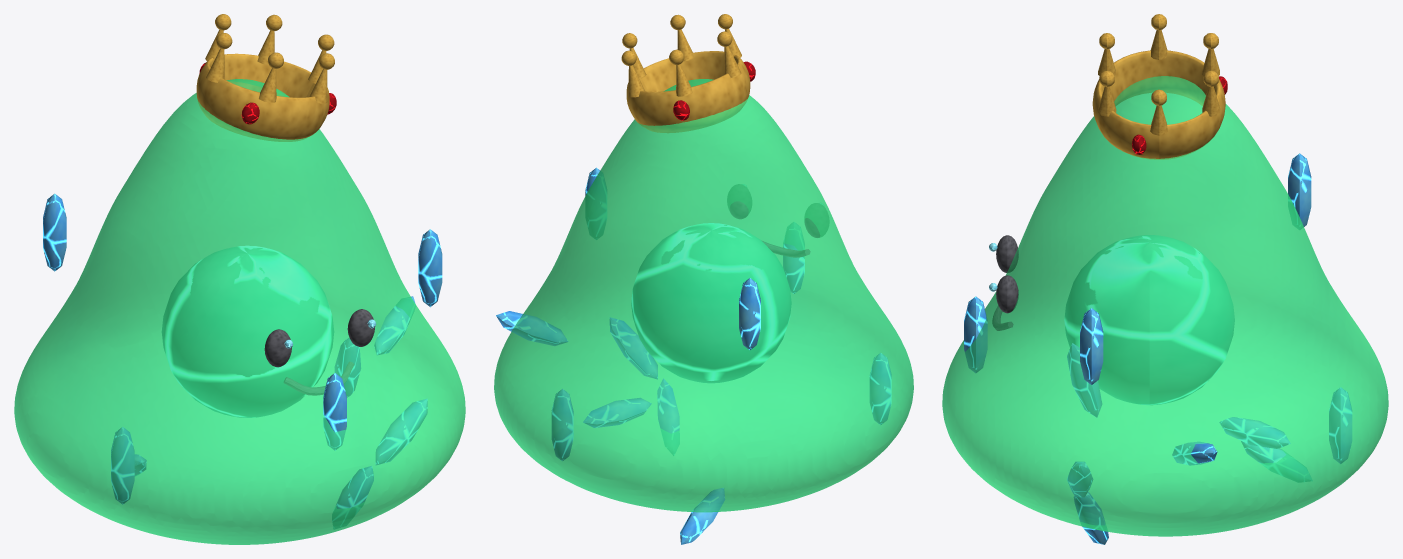
File: mon_emerald_mana_slime_king.glb
3 views of the same model, side by side, from view 1: azimuth 30°, elevation 25°; view 2: azimuth 150°, elevation 25°; view 3: azimuth 270°, elevation 25° (orthographic). The views are drawn at different scales.
Visible parts, largest first — view 1: gelatinous_body, mana_core, floating_crystals, royal_crown, crown_spikes, eyes; view 2: gelatinous_body, mana_core, floating_crystals, royal_crown, crown_spikes; view 3: gelatinous_body, mana_core, floating_crystals, royal_crown, crown_spikes, eyes.
Part boxes in pixels (x1,y1,x2,y2): gelatinous_body: [14, 79, 465, 544]; mana_core: [162, 246, 333, 417]; floating_crystals: [43, 193, 442, 508]; royal_crown: [196, 53, 329, 141]; crown_spikes: [205, 14, 334, 103]; eyes: [264, 309, 374, 367]; gelatinous_body: [494, 79, 913, 512]; mana_core: [631, 223, 791, 382]; floating_crystals: [496, 167, 891, 544]; royal_crown: [626, 51, 750, 132]; crown_spikes: [621, 14, 741, 97]; gelatinous_body: [942, 76, 1388, 536]; mana_core: [1064, 235, 1234, 404]; floating_crystals: [964, 153, 1351, 544]; royal_crown: [1092, 50, 1225, 159]; crown_spikes: [1098, 14, 1220, 135]; eyes: [996, 235, 1018, 313].
Size of the model in its own units: 1.42 by 1.71 by 1.41.
7 materials, 7 textured.
